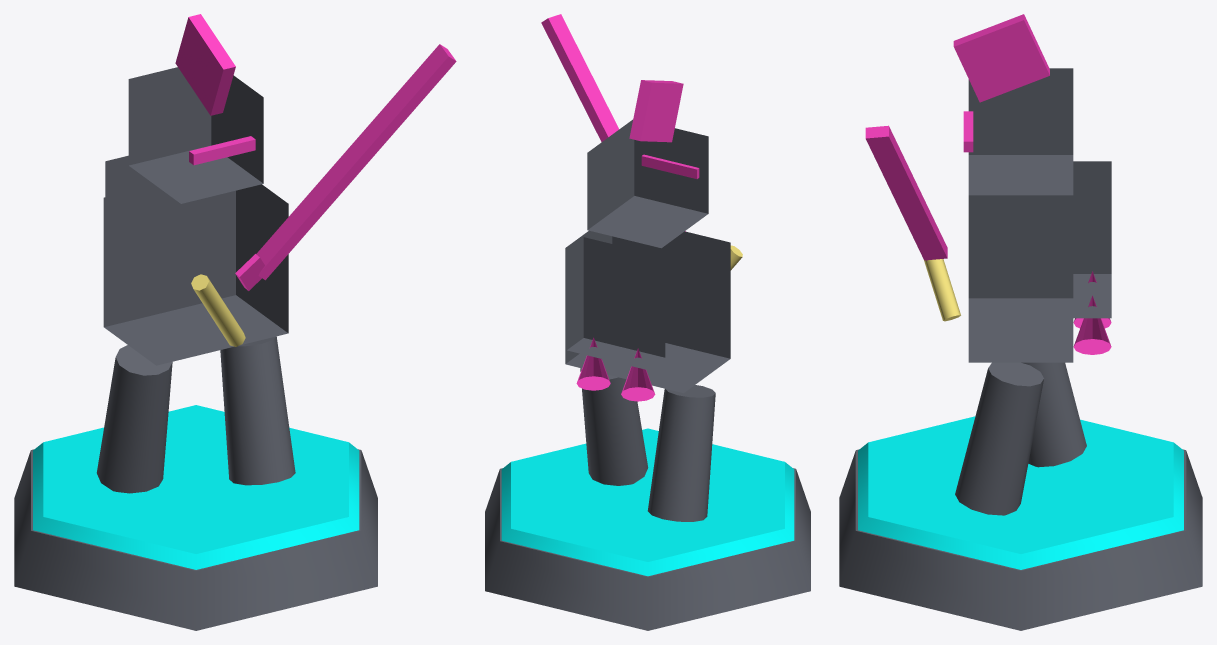
File: knight.glb
3 renders of one model, left to right at view 1: azimuth 30°, elevation 25°; view 2: azimuth 150°, elevation 25°; view 3: azimuth 270°, elevation 25°, orthographic. The views are drawn at different scales.
Parts seen in each view (by area): view 1: knight; view 2: knight; view 3: knight.
Part boxes in pixels (x1,y1,x2,y2): knight: (14, 14, 456, 630); knight: (485, 14, 810, 630); knight: (839, 14, 1202, 630).
Bounding box in the file's own units: 0.8885 × 1.22 × 0.7621.
